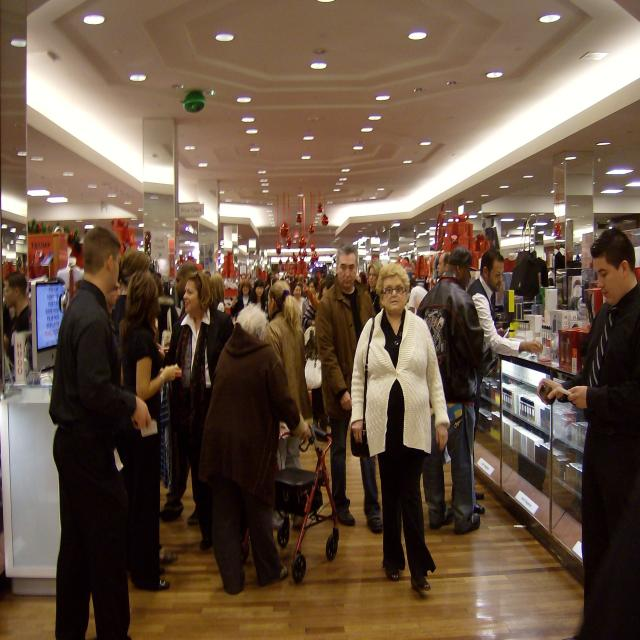body: (46, 222, 151, 640), (536, 225, 640, 640), (196, 298, 314, 599), (349, 258, 450, 596), (412, 244, 487, 538), (314, 242, 388, 536), (466, 248, 544, 515), (116, 264, 173, 594), (163, 270, 235, 528), (238, 273, 320, 473), (155, 261, 205, 524), (264, 279, 312, 532), (251, 386, 317, 537), (0, 247, 37, 404), (301, 279, 331, 431), (112, 248, 153, 350), (544, 263, 586, 314), (105, 272, 122, 391), (237, 265, 334, 283), (230, 279, 257, 322), (300, 279, 320, 329), (366, 262, 383, 315), (260, 273, 277, 322), (245, 277, 267, 313), (408, 278, 429, 315), (208, 272, 226, 314), (432, 199, 449, 243), (482, 223, 504, 245), (436, 250, 450, 278), (296, 274, 306, 297), (356, 270, 367, 288)
